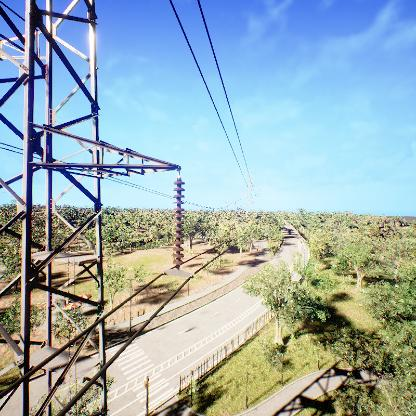insulator: (172, 179, 185, 270)
